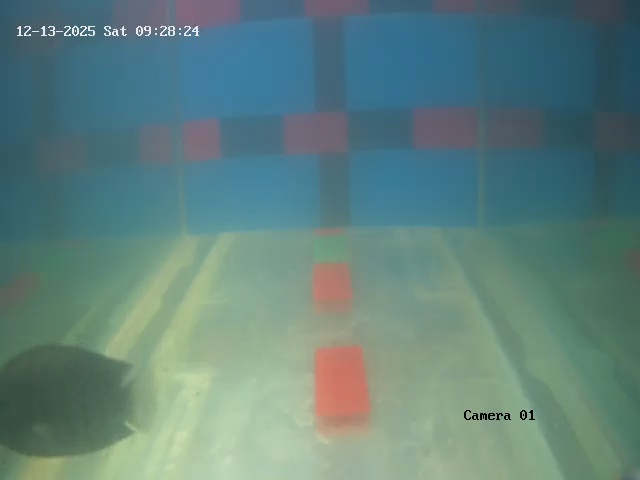fish: (0, 344, 149, 456)
